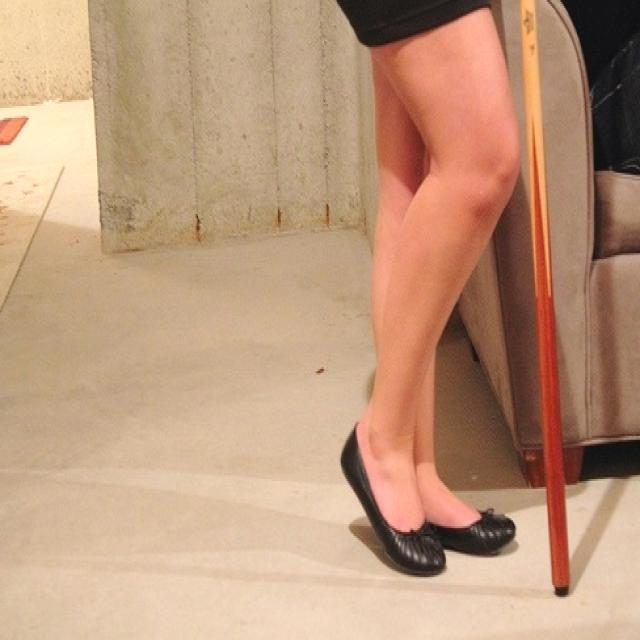piel: (359, 8, 520, 534)
